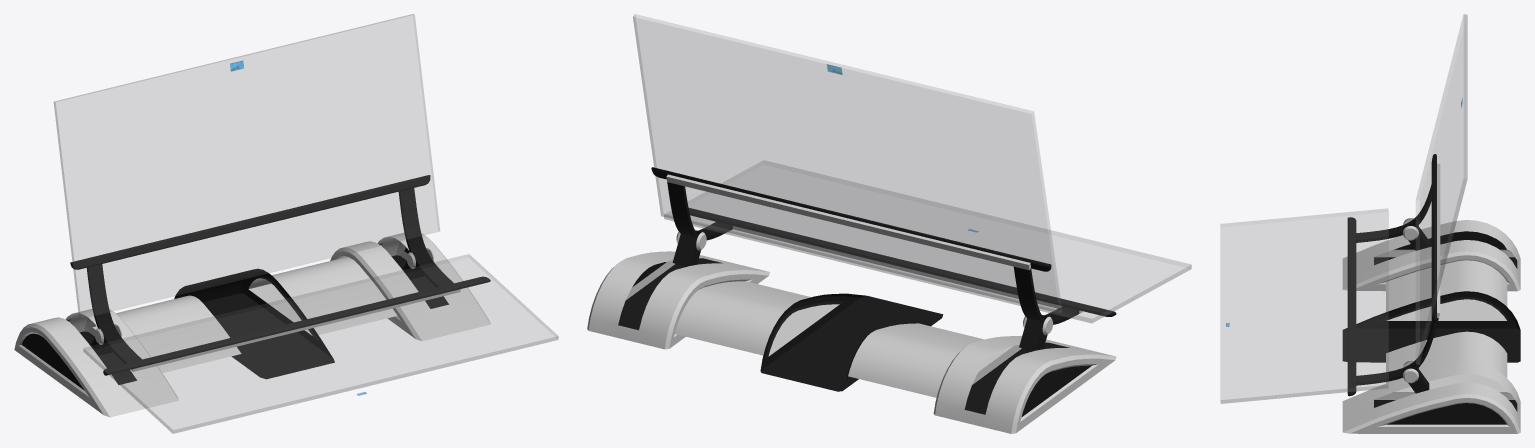
Rendered from networking.glb.
3 views of the same model, side by side, from view 1: azimuth 30°, elevation 25°; view 2: azimuth 150°, elevation 25°; view 3: azimuth 270°, elevation 25° (orthographic). The views are drawn at different scales.
Parts seen in each view (by area): view 1: screen1, Circle, key1; view 2: screen1, Circle, key1; view 3: Circle, key1, screen1.
Part boxes in pixels (box(x1,y1,x2,y2)): screen1: box(54, 14, 439, 318); Circle: box(14, 175, 490, 417); key1: box(83, 254, 558, 433); screen1: box(633, 14, 1061, 313); Circle: box(587, 167, 1116, 433); key1: box(664, 161, 1191, 323); Circle: box(1342, 154, 1520, 433); key1: box(1220, 208, 1388, 403); screen1: box(1416, 14, 1467, 364).
Bounding box in the file's own units: 4.95 × 3.26 × 3.56.
4 materials, 1 textured.
